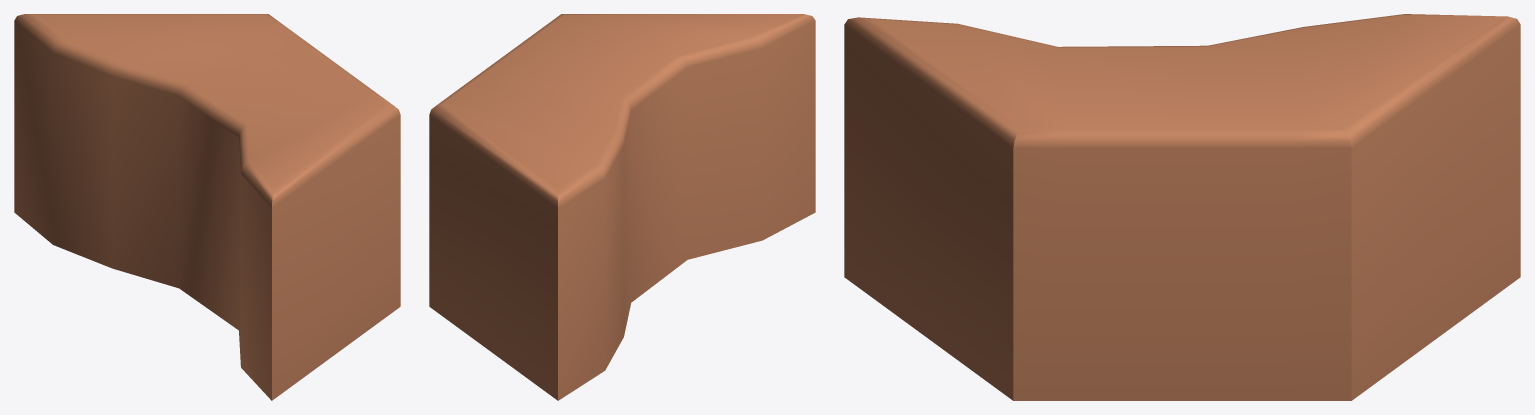
File: hex_rock_waterC_empty.glb
3 views of the same model, side by side, from view 1: azimuth 30°, elevation 25°; view 2: azimuth 150°, elevation 25°; view 3: azimuth 270°, elevation 25° (orthographic). The views are drawn at different scales.
Parts seen in each view (by area): view 1: hex_rock_waterC_empty; view 2: hex_rock_waterC_empty; view 3: hex_rock_waterC_empty.
Part boxes in pixels (bbox=[...]): hex_rock_waterC_empty: bbox=[14, 14, 400, 400]; hex_rock_waterC_empty: bbox=[429, 14, 815, 400]; hex_rock_waterC_empty: bbox=[844, 14, 1520, 400].
Bounding box in the file's own units: 1.02 × 1 × 2.31.
